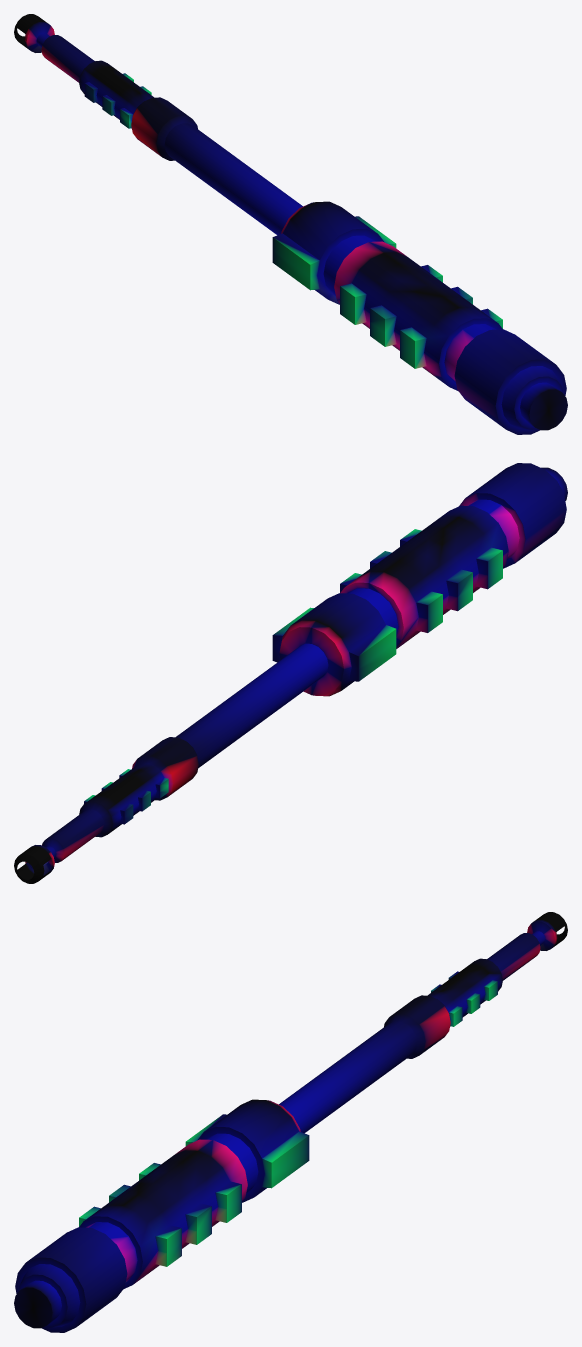
Rendered from wpn_laser_cannon_01.fbx.
3 renders of one model, top to bottom at view 1: azimuth 30°, elevation 25°; view 2: azimuth 150°, elevation 25°; view 3: azimuth 330°, elevation 25°, orthographic.
Visible parts, largest first — view 1: wpn_laser_cannon_01; view 2: wpn_laser_cannon_01; view 3: wpn_laser_cannon_01.
Part boxes in pixels (x1=…): wpn_laser_cannon_01: x1=14, y1=14, x2=567, y2=434; wpn_laser_cannon_01: x1=14, y1=463, x2=567, y2=883; wpn_laser_cannon_01: x1=14, y1=912, x2=567, y2=1332.
Size of the model in its own units: 247 by 201 by 2544.
